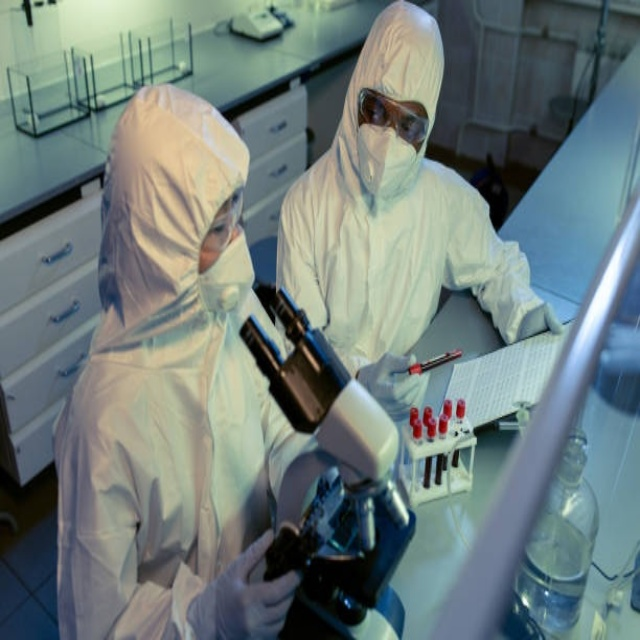Gafas: (358, 87, 428, 149), (208, 188, 244, 245)
Guantes: (198, 527, 302, 640), (357, 350, 427, 421), (515, 302, 567, 342)
Mascara: (356, 107, 425, 201), (197, 229, 255, 318)
